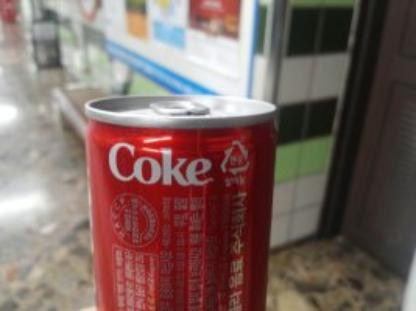Can: (88, 96, 270, 311)
